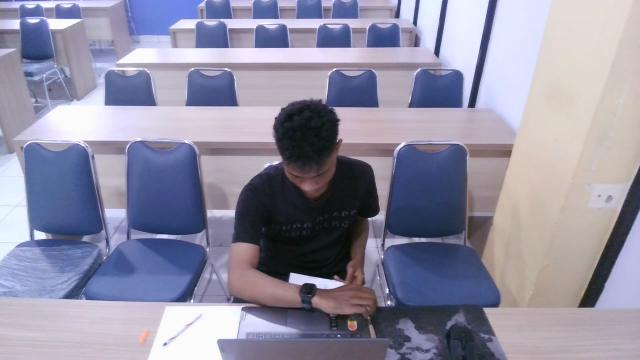Cheat_Sheet: (287, 272, 346, 291)
Head_Down_Extreme: (209, 79, 390, 325)
